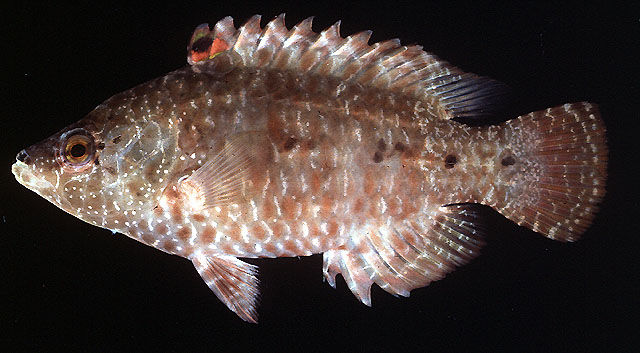fish: (14, 14, 608, 321)
